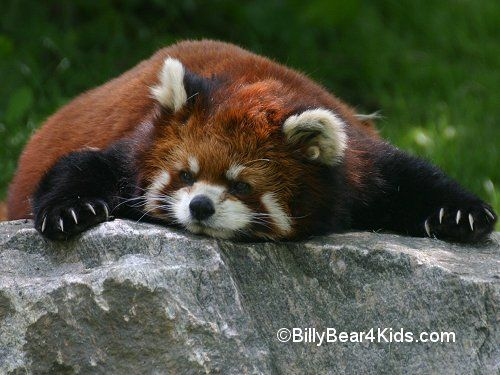red_panda: (21, 41, 491, 284)
